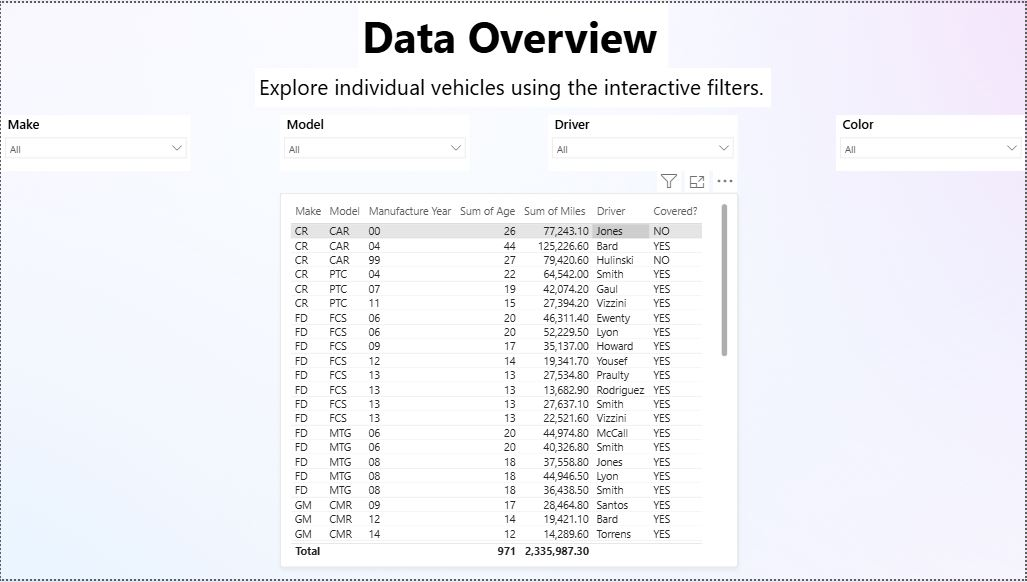

The dashboard page shown, as its layout file describes it:
{"tool":"powerbi","page":{"name":"Data Overview","canvas":[1280,720],"ordinal":1},"visuals":[{"type":"tableEx","fields":{"Values":["Cars.Make","Cars.Model","Cars.Manufacture Year","Sum(Cars.Age)","Sum(Cars.Miles)","Cars.Driver","Cars.Covered?"]},"box":[348.2,238.1,572.6,468],"z":0},{"type":"textbox","box":[446,0,388,81.3],"z":1},{"type":"textbox","box":[317.3,81.3,645.3,49.3],"z":2},{"type":"slicer","fields":{"Values":["Cars.Make"]},"box":[0,140.4,236.7,70.2],"z":3},{"type":"slicer","fields":{"Values":["Cars.Model"]},"box":[348.2,140.4,236.7,70.2],"z":4},{"type":"slicer","fields":{"Values":["Cars.Driver"]},"box":[684,140.4,236.7,70.2],"z":5},{"type":"slicer","fields":{"Values":["Cars.Color"]},"box":[1043.3,140.4,236.7,70.2],"z":6}]}

Visuals, with their boxes in screenshot pixels (x1, y1, x2, y2), scaled from the page's 1280x720 canvas onto the 1027x582 screenshot:
tableEx - Cars.Make x Cars.Model: {"left": 279, "top": 192, "right": 739, "bottom": 571}
textbox: {"left": 358, "top": 0, "right": 669, "bottom": 66}
textbox: {"left": 255, "top": 66, "right": 772, "bottom": 106}
slicer - Cars.Make: {"left": 0, "top": 113, "right": 190, "bottom": 170}
slicer - Cars.Model: {"left": 279, "top": 113, "right": 469, "bottom": 170}
slicer - Cars.Driver: {"left": 549, "top": 113, "right": 739, "bottom": 170}
slicer - Cars.Color: {"left": 837, "top": 113, "right": 1026, "bottom": 170}
